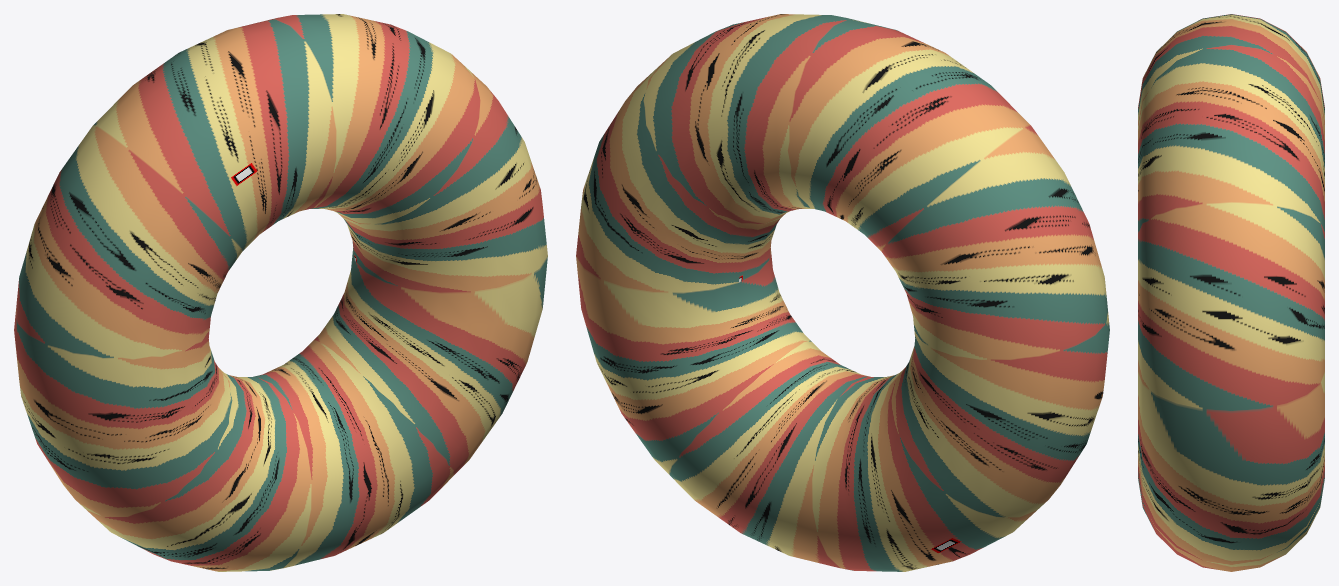
Rendered from uv_checkerboard_res_1024_iter_7_dehn_twist.glb.
3 renders of one model, left to right at view 1: azimuth 30°, elevation 25°; view 2: azimuth 150°, elevation 25°; view 3: azimuth 270°, elevation 25°, orthographic. The views are drawn at different scales.
Visible parts, largest first — view 1: Node; view 2: Node; view 3: Node.
Part boxes in pixels (x1,y1,x2,y2): Node: (14,14,547,571); Node: (576,14,1109,571); Node: (1138,14,1324,571).
Size of the model in its own units: 3 by 2.98 by 1.
Materials: 1 (1 with a texture image).
